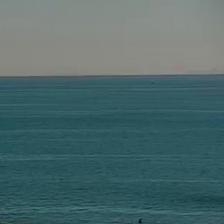surfer: (138, 218, 143, 224), (156, 223, 160, 223)
